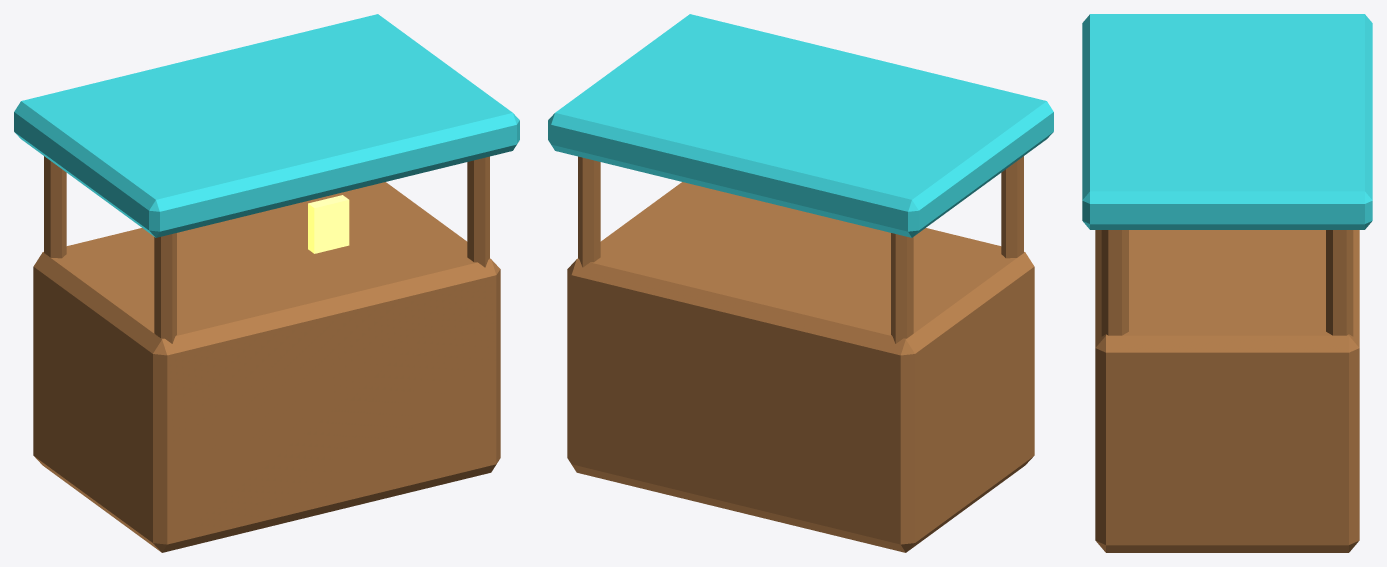
File: food-stall.glb
The picture shows the model from 3 angles, left to right: view 1: azimuth 30°, elevation 25°; view 2: azimuth 150°, elevation 25°; view 3: azimuth 270°, elevation 25°; orthographic projection.
Visible parts, largest first — view 1: counter, roof, post.003, post.001, lamp, post; view 2: counter, roof, post.002, post, post.001; view 3: counter, roof, post.002, post.003.
Part boxes in pixels (x1=…): counter: x1=33, y1=182, x2=500, y2=552; roof: x1=14, y1=14, x2=519, y2=237; post.003: x1=467, y1=156, x2=489, y2=267; post.001: x1=154, y1=233, x2=176, y2=343; lamp: x1=308, y1=195, x2=349, y2=253; post: x1=44, y1=156, x2=66, y2=258; counter: x1=567, y1=182, x2=1034, y2=552; roof: x1=548, y1=14, x2=1053, y2=237; post.002: x1=578, y1=156, x2=600, y2=267; post: x1=891, y1=233, x2=913, y2=343; post.001: x1=1001, y1=156, x2=1023, y2=258; counter: x1=1095, y1=230, x2=1359, y2=552; roof: x1=1082, y1=14, x2=1372, y2=229; post.002: x1=1326, y1=230, x2=1353, y2=336; post.003: x1=1101, y1=230, x2=1128, y2=336.
Bounding box in the file's own units: 3 × 2.8 × 2.
